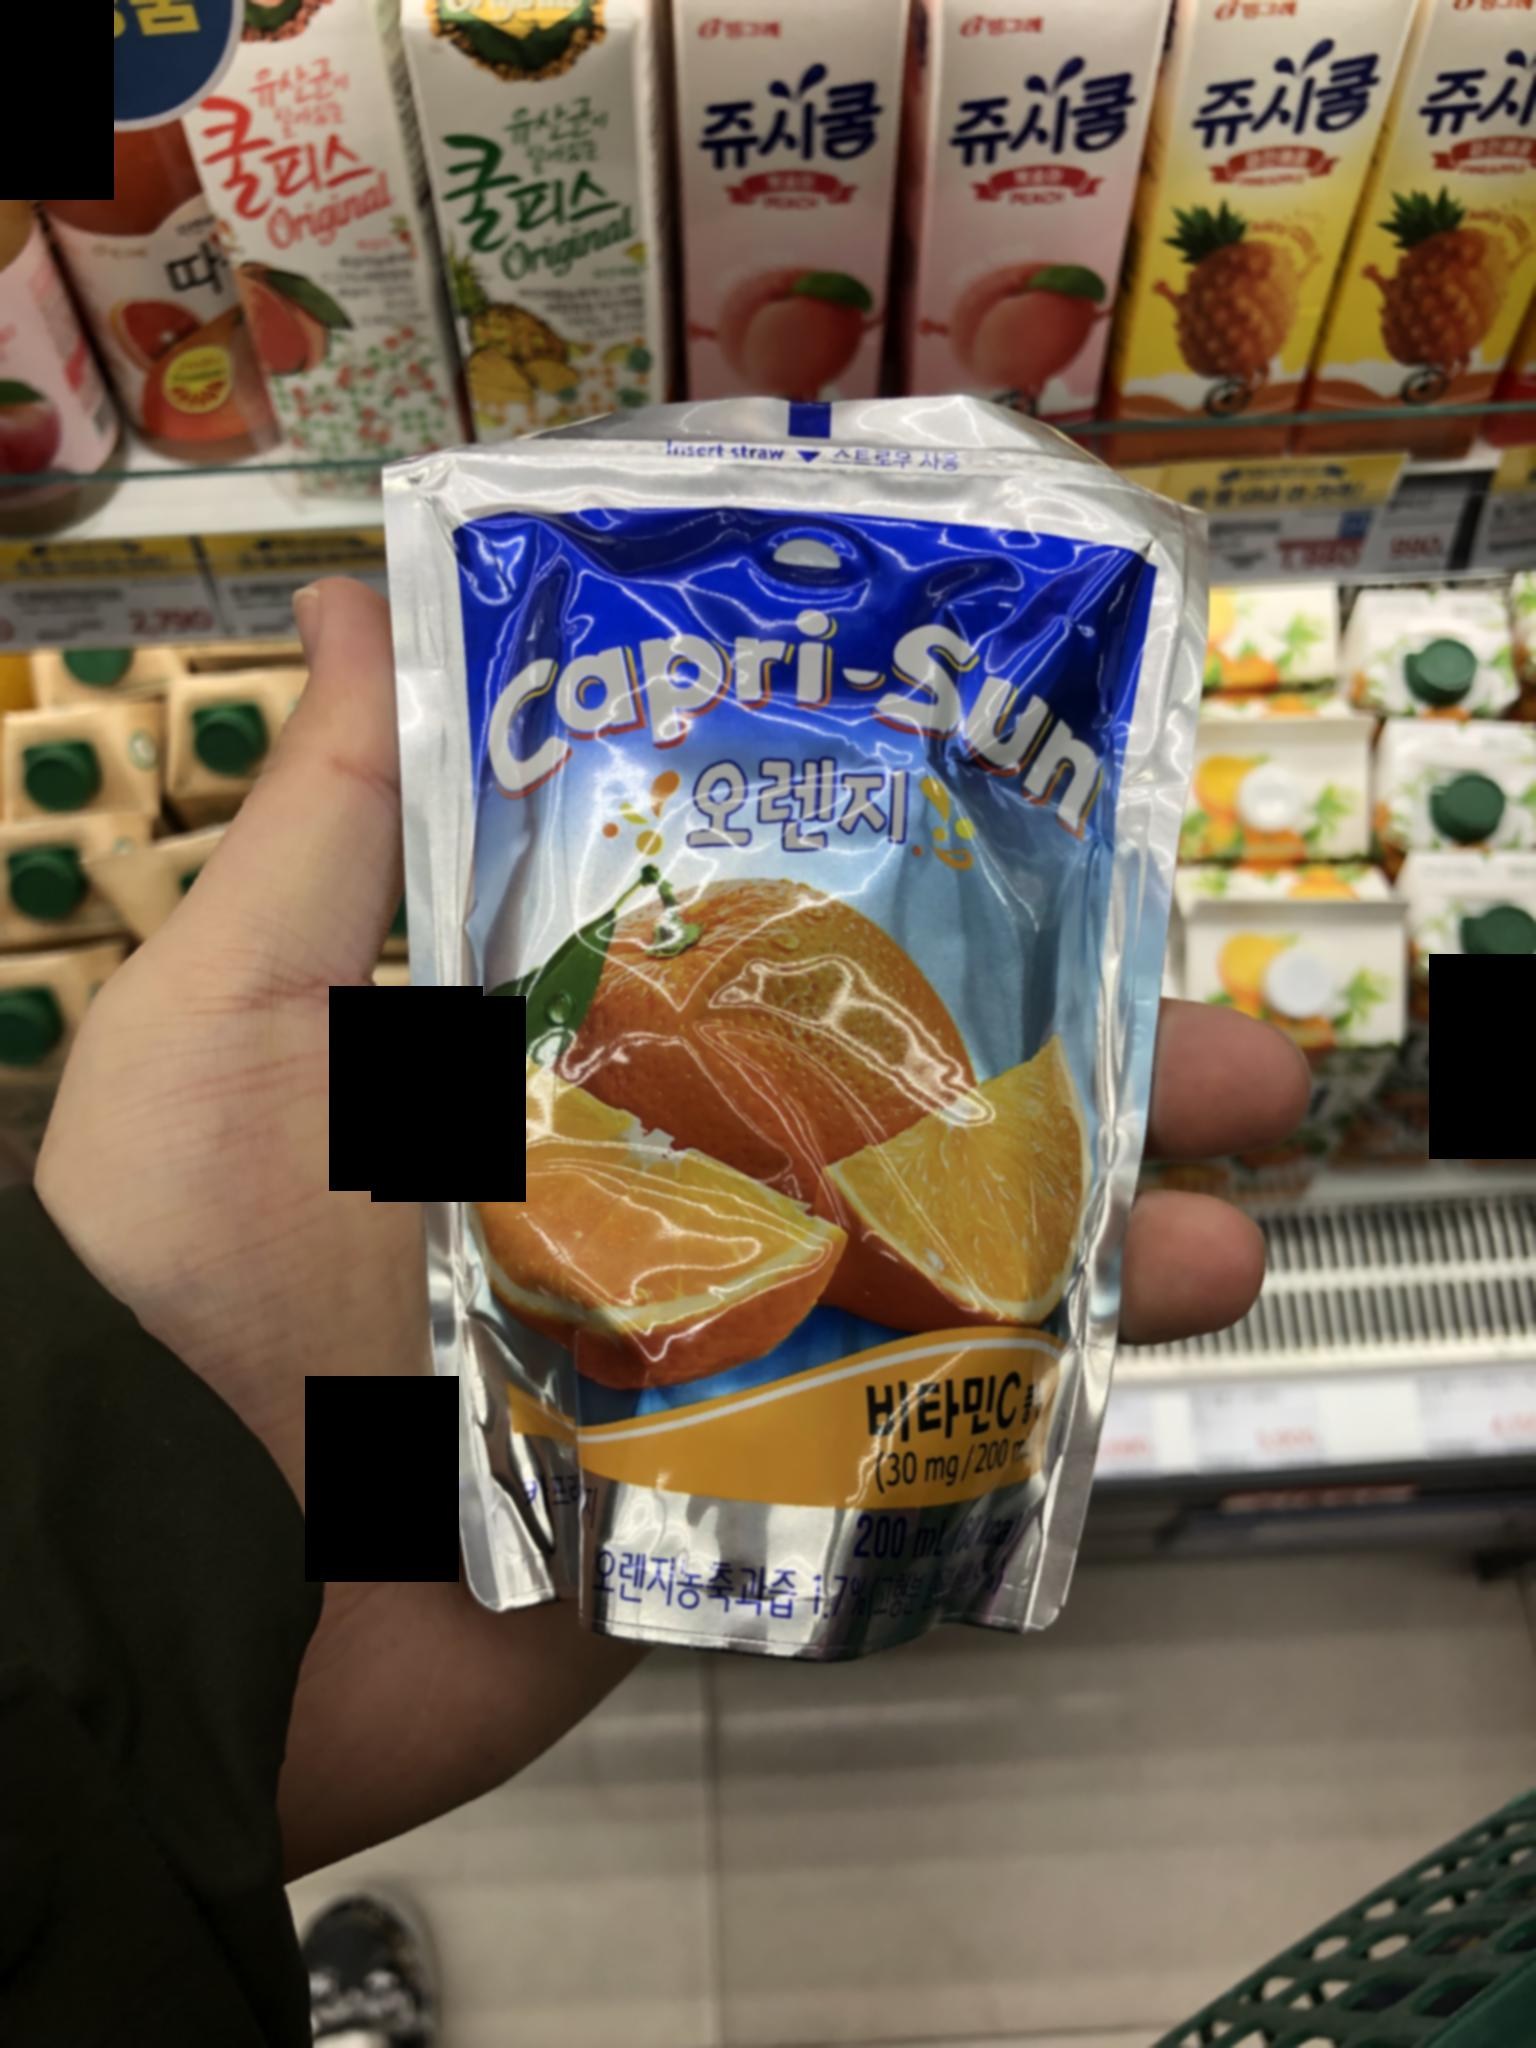cafrisun: (342, 421, 1168, 1648)
